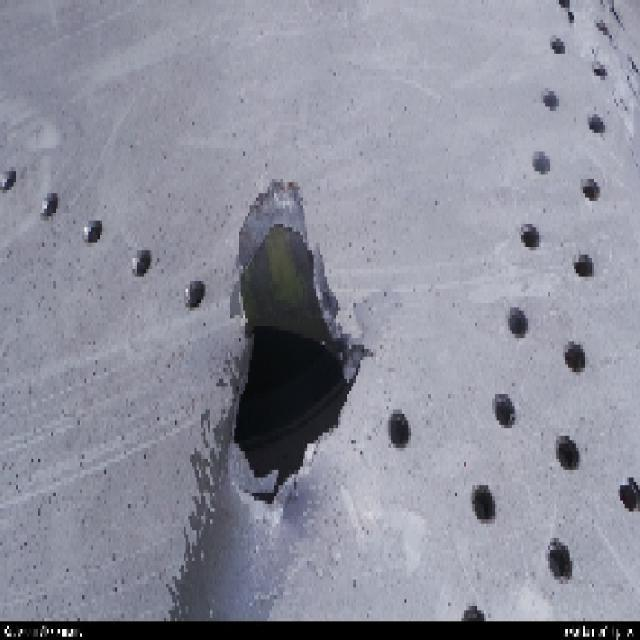crack: (221, 178, 377, 520)
